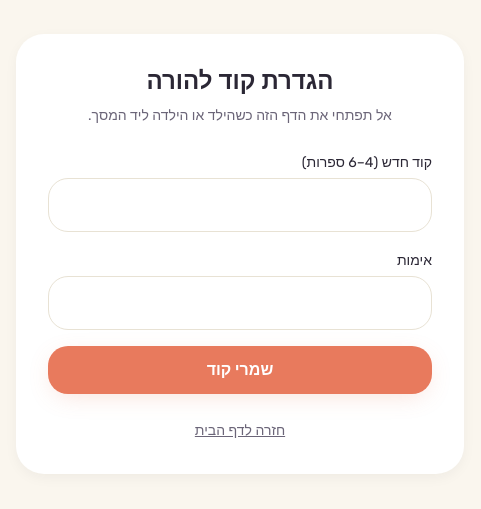
Test: <ParentEntry> — setup mode (first visit) › rejects mismatched confirmation
Expected: the heading "הגדרת קוד להורה" is shown, [146,64,333,99]
Type "1234" into the password field labelled "קוד חדש (4–6 ספרות)".
click(240, 205); type("1234")  # box [48,178,432,232]
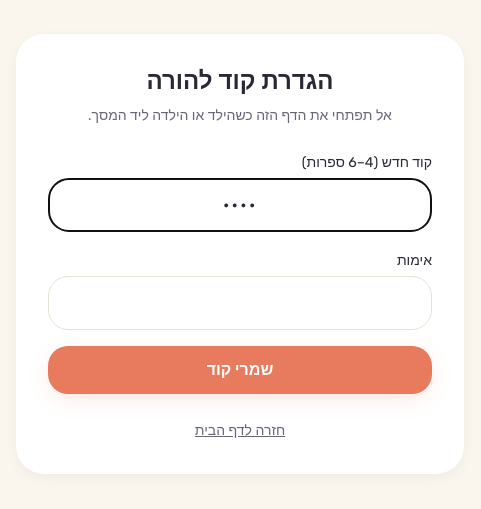
Type "5678" into the password field labelled "אימות".
click(240, 303); type("5678")  # box [48,276,432,330]
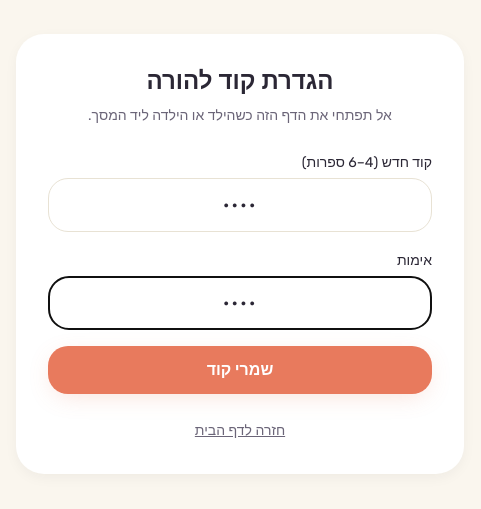
Click the button "שמרי קוד".
click(240, 370)  # box [48,346,432,394]
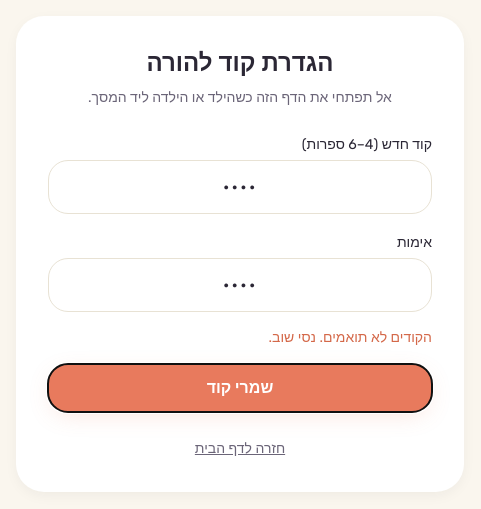
Expected: the text "הקודים לא תואמים. נסי שוב." is shown, [269,329,432,346]
